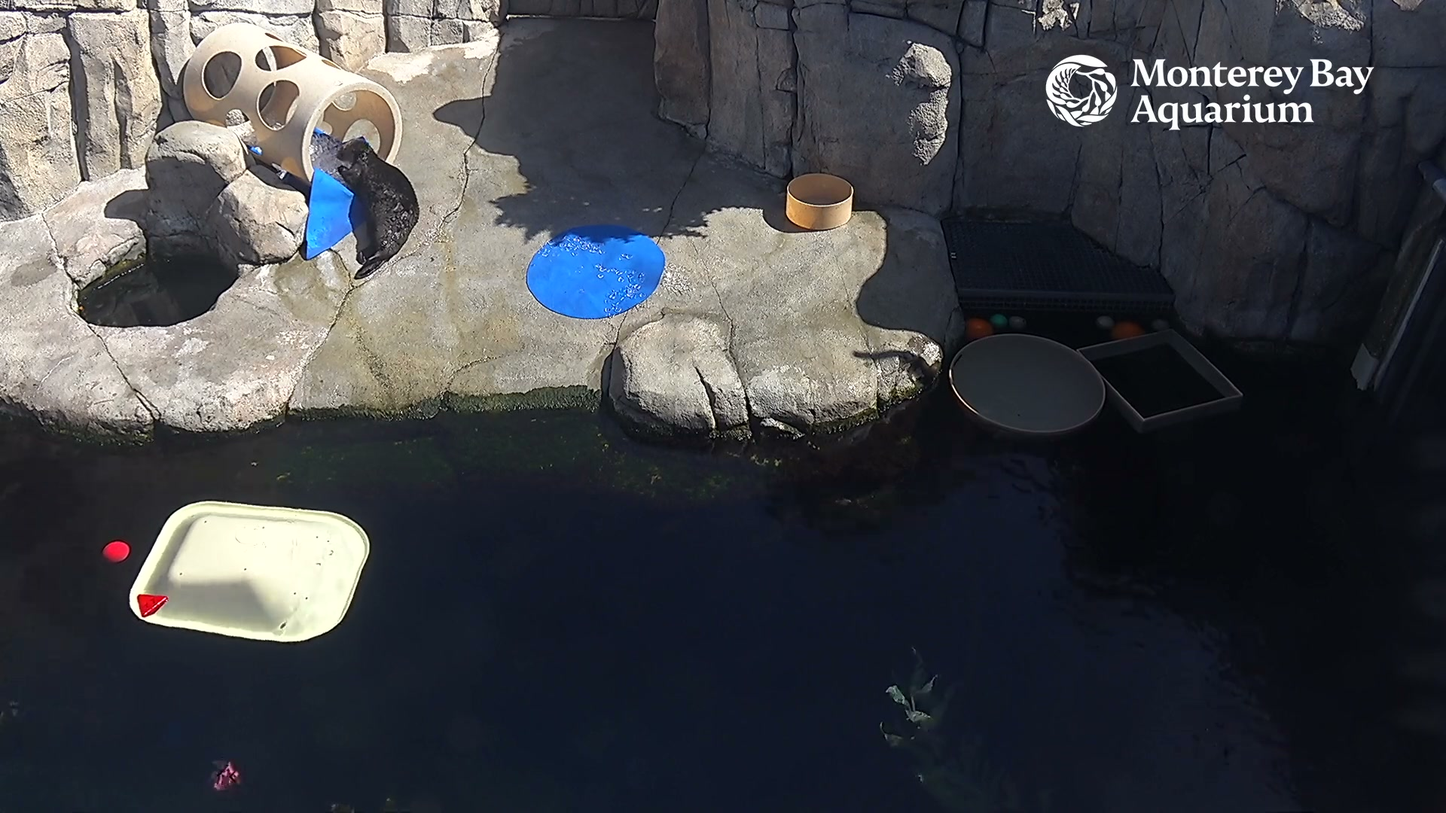Southern Sea Otter: (335, 136, 426, 297)
